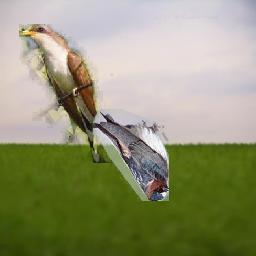Cuckoo: (19, 25, 113, 164)
Swallow: (93, 109, 169, 201)
